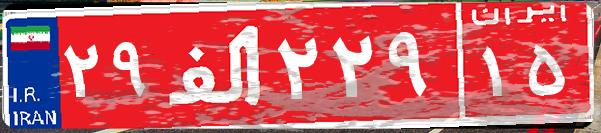1: (475, 38, 525, 113)
2: (273, 28, 330, 110), (330, 28, 385, 110), (57, 26, 110, 107)
5: (525, 38, 570, 115)
9: (385, 28, 445, 110), (110, 28, 158, 105)
الف: (158, 15, 273, 115)
